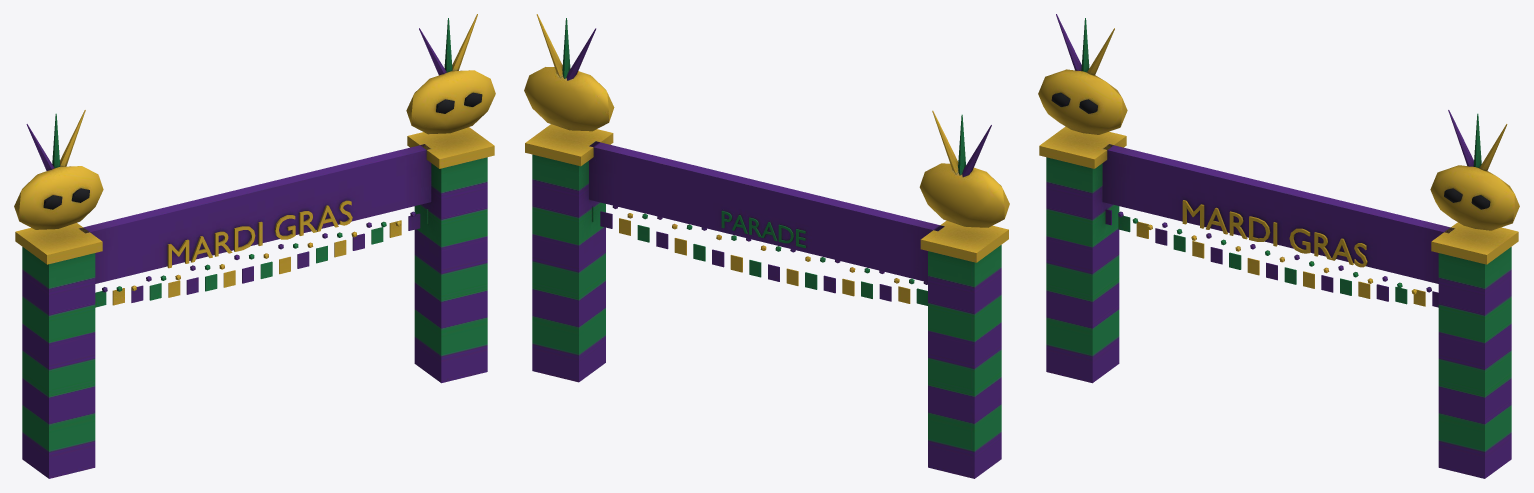
File: arco_carnaval.glb
3 views of the same model, side by side, from view 1: azimuth 30°, elevation 25°; view 2: azimuth 150°, elevation 25°; view 3: azimuth 330°, elevation 25° (orthographic).
Parts seen in each view (by area): view 1: arco_carnaval; view 2: arco_carnaval; view 3: arco_carnaval.
Boxes of the visible parts, x1,y1,x2,y2 form: arco_carnaval: (14, 14, 495, 478); arco_carnaval: (524, 14, 1009, 478); arco_carnaval: (1038, 14, 1519, 478).
Size of the model in its own units: 20.65 by 14.4 by 2.4.
Materials: 1 (1 with a texture image).
